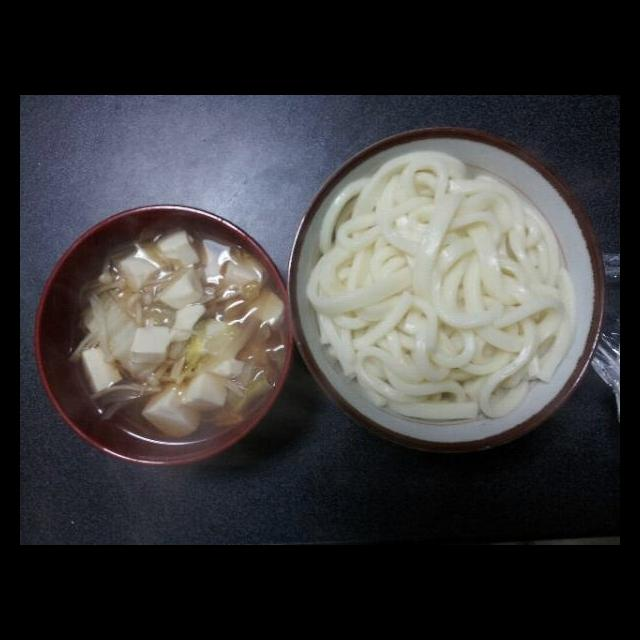noodles: (305, 148, 579, 424)
